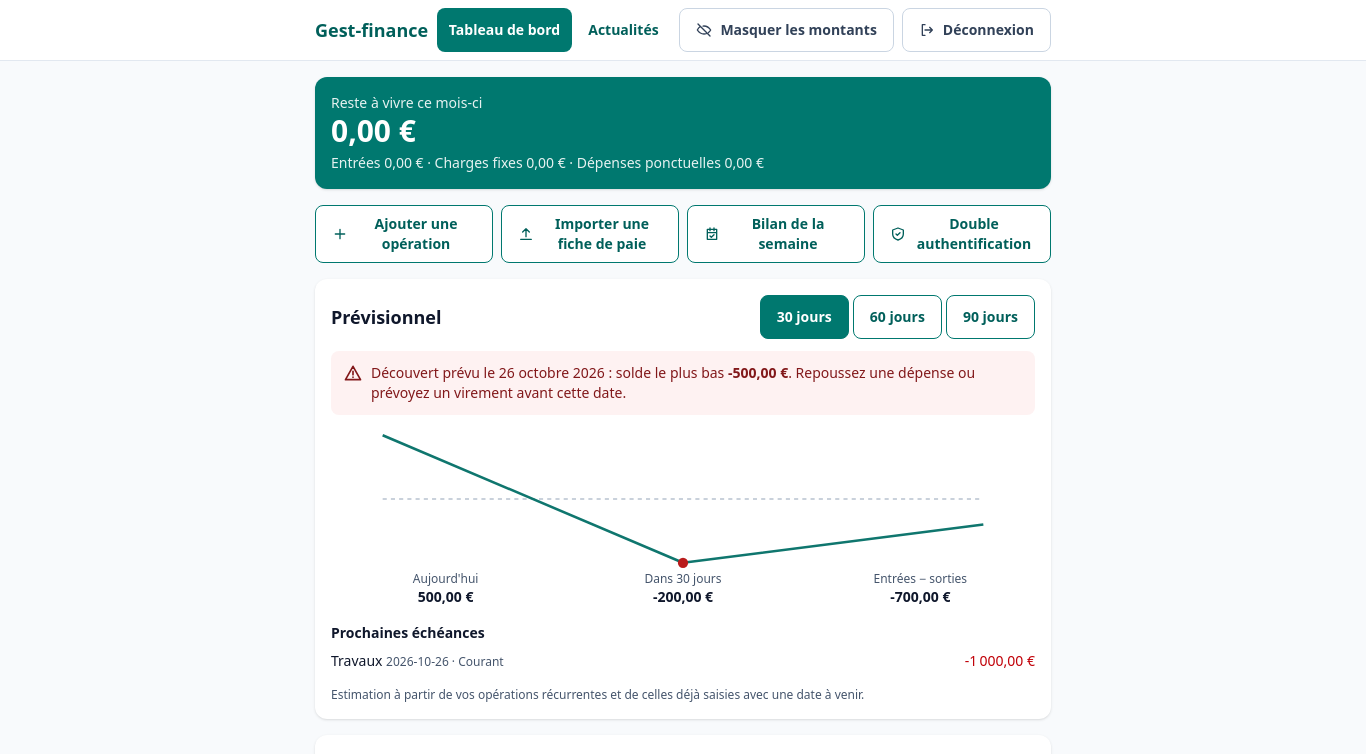
Test: prévisionnel et objectifs › masque les montants du prévisionnel en mode confidentialité
Expected: the element labelled "Prévisionnel" is shown, x1=315 y1=279 x2=1051 y2=719
Click the button "Masquer les montants": {"x": 787, "y": 30} x1=679 y1=8 x2=894 y2=52
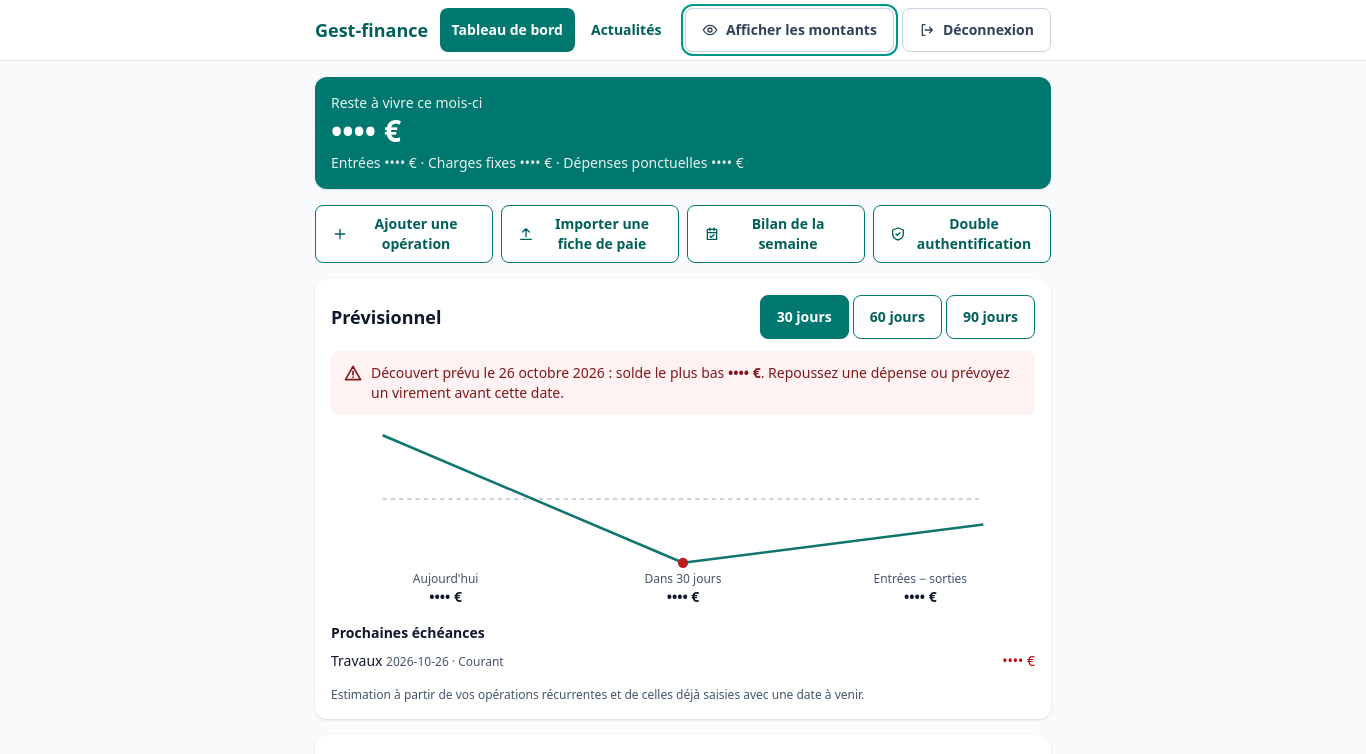
Expected: the message shows "•••• €", x1=728 y1=363 x2=761 y2=382
